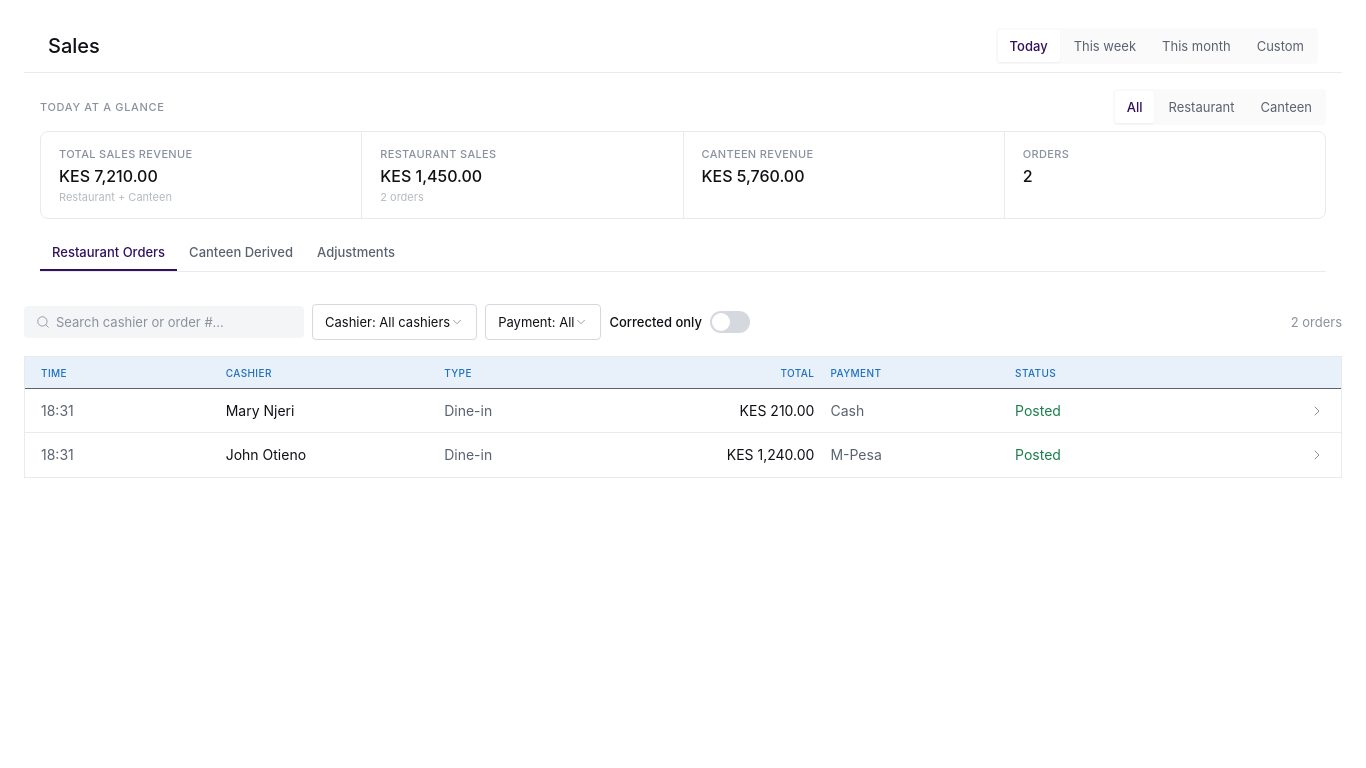
Scenario: Restaurant Orders tab › opens the read-only detail drawer, then the correction form
Click the text "KES 210.00" at (777, 410), box x1=740 y1=402 x2=814 y2=420
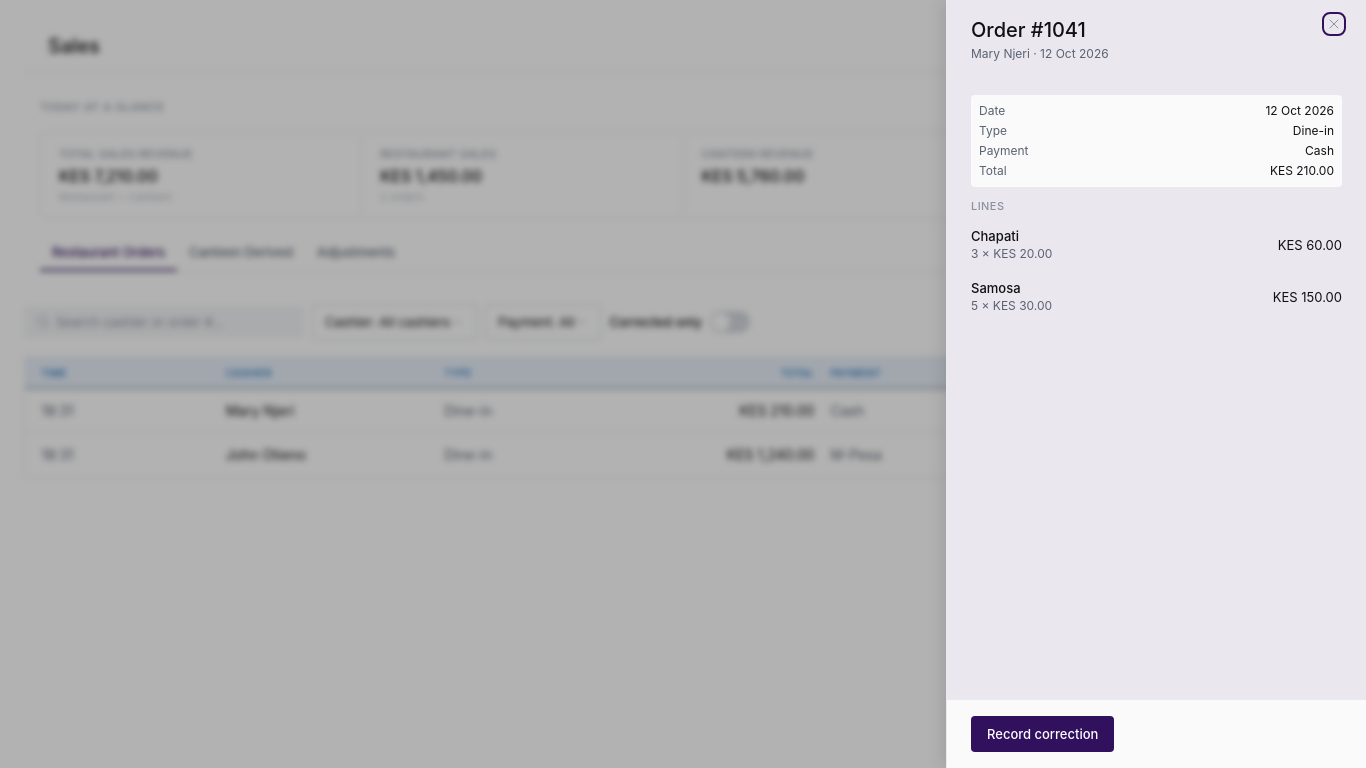
Check: the text "Order #1041" is shown, box x1=971 y1=18 x2=1086 y2=42
Click the button "Record correction" at (1043, 734), box x1=971 y1=716 x2=1114 y2=752
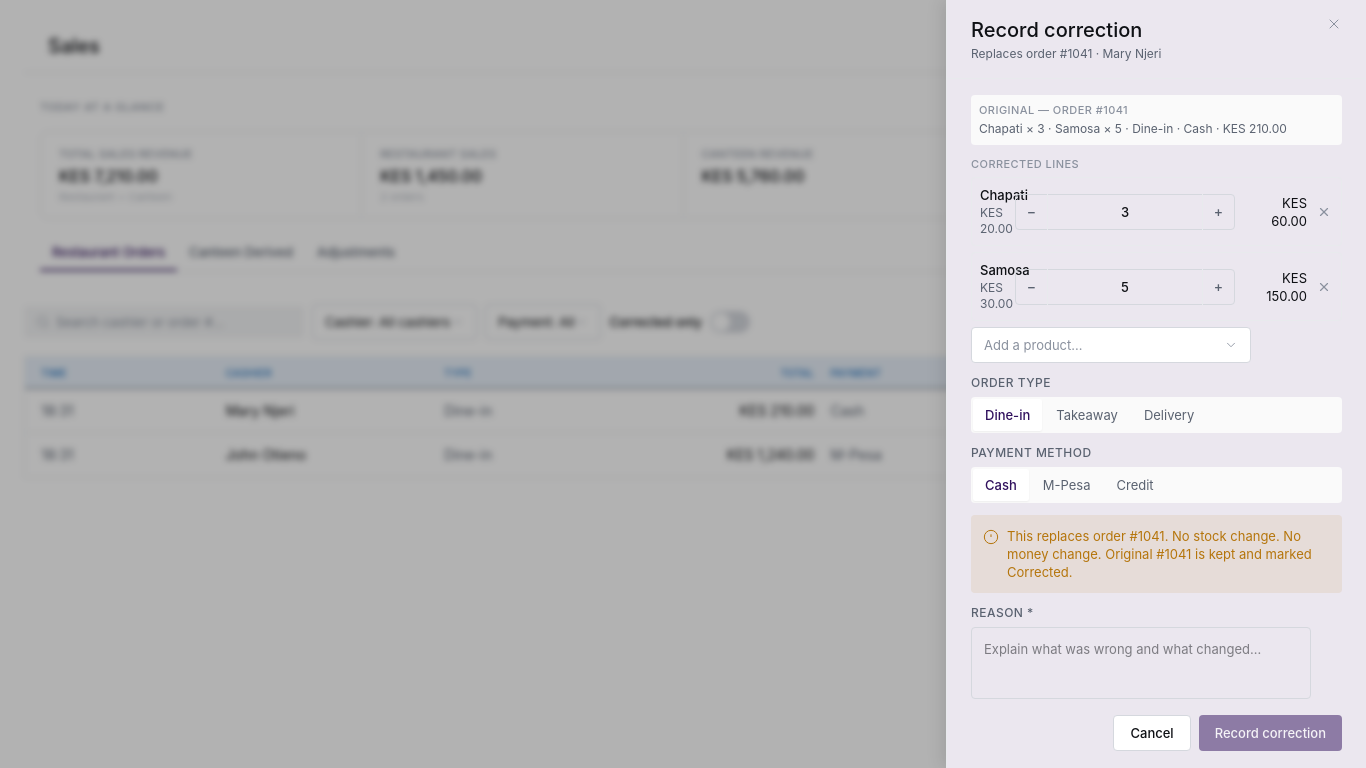
Check: the text "Replaces order #1041 · Mary Njeri" is shown, box x1=971 y1=46 x2=1161 y2=62
Check: the text box labelled "Reason *" is shown, box x1=984 y1=640 x2=1298 y2=686
